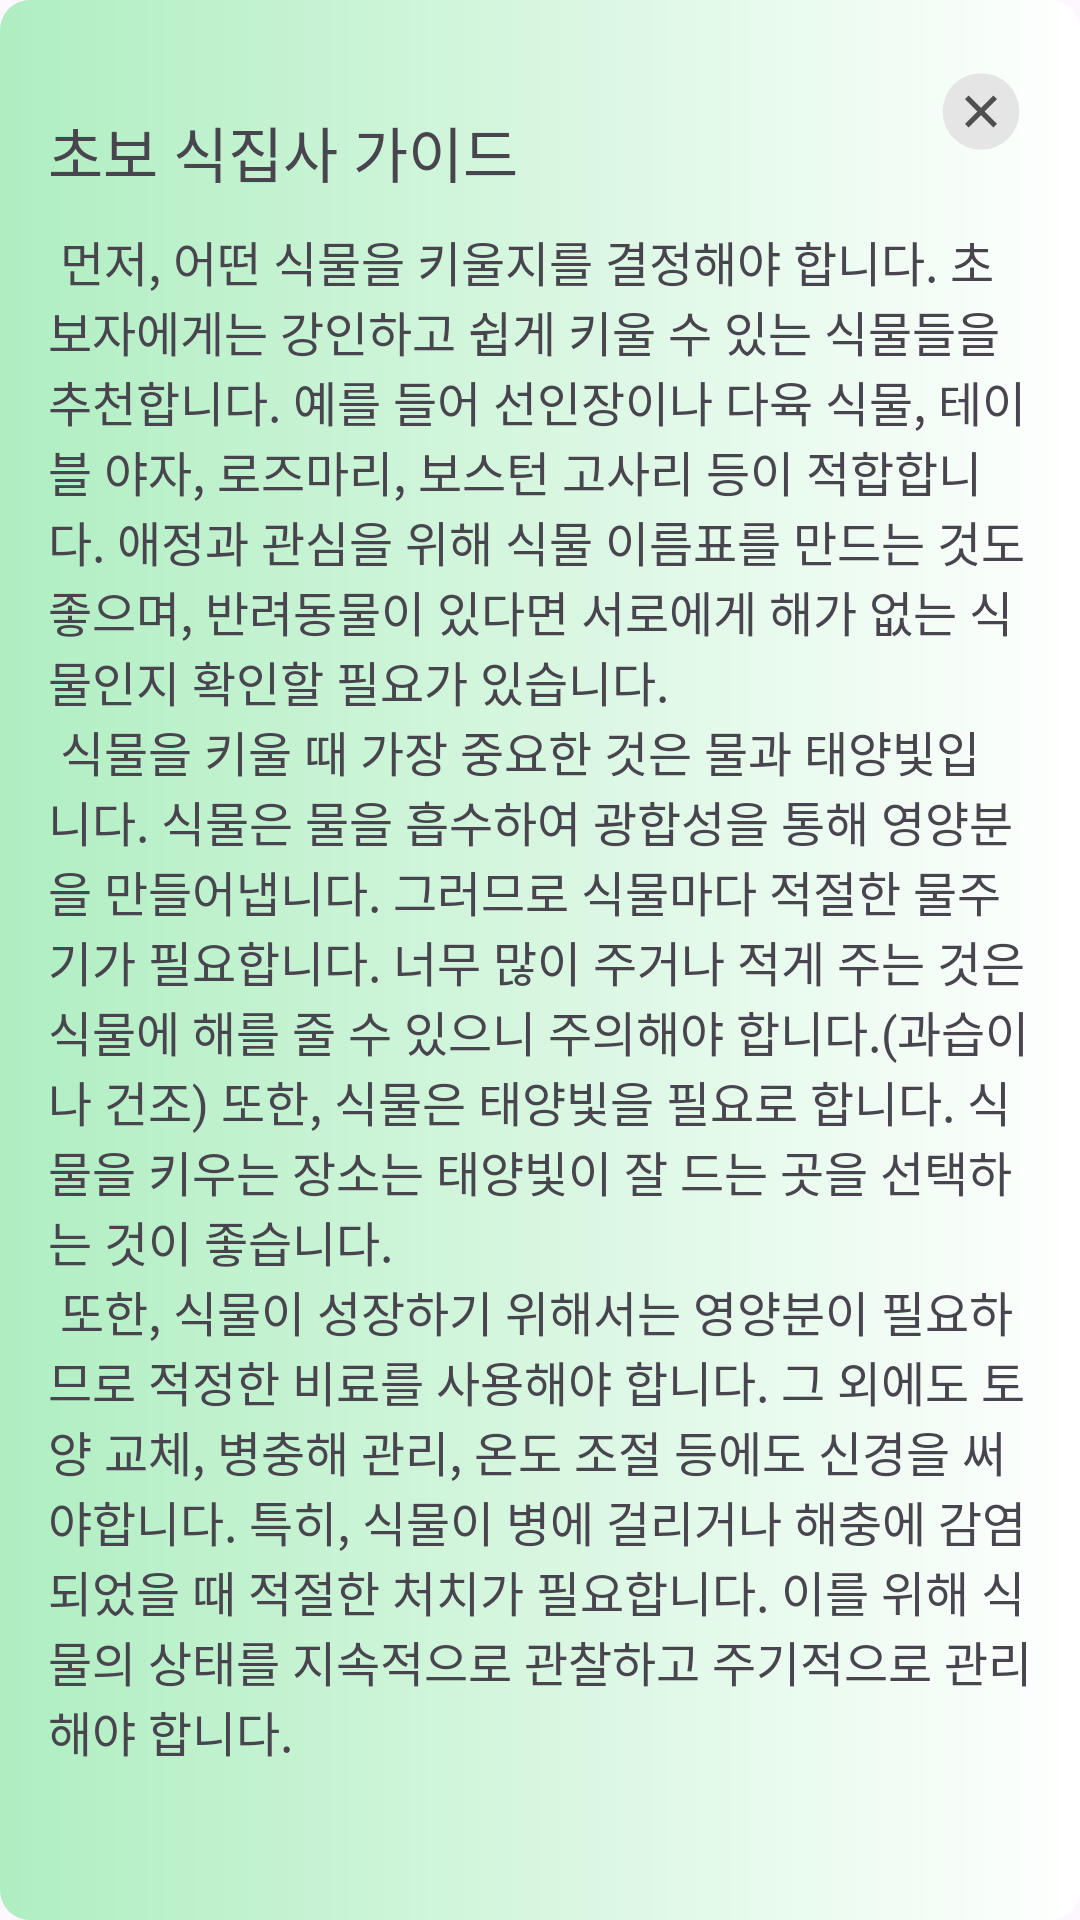

Screen size 1080w x 1920h. Icon name, then its center in pixels as point (x, y):
close: point (981, 111)
